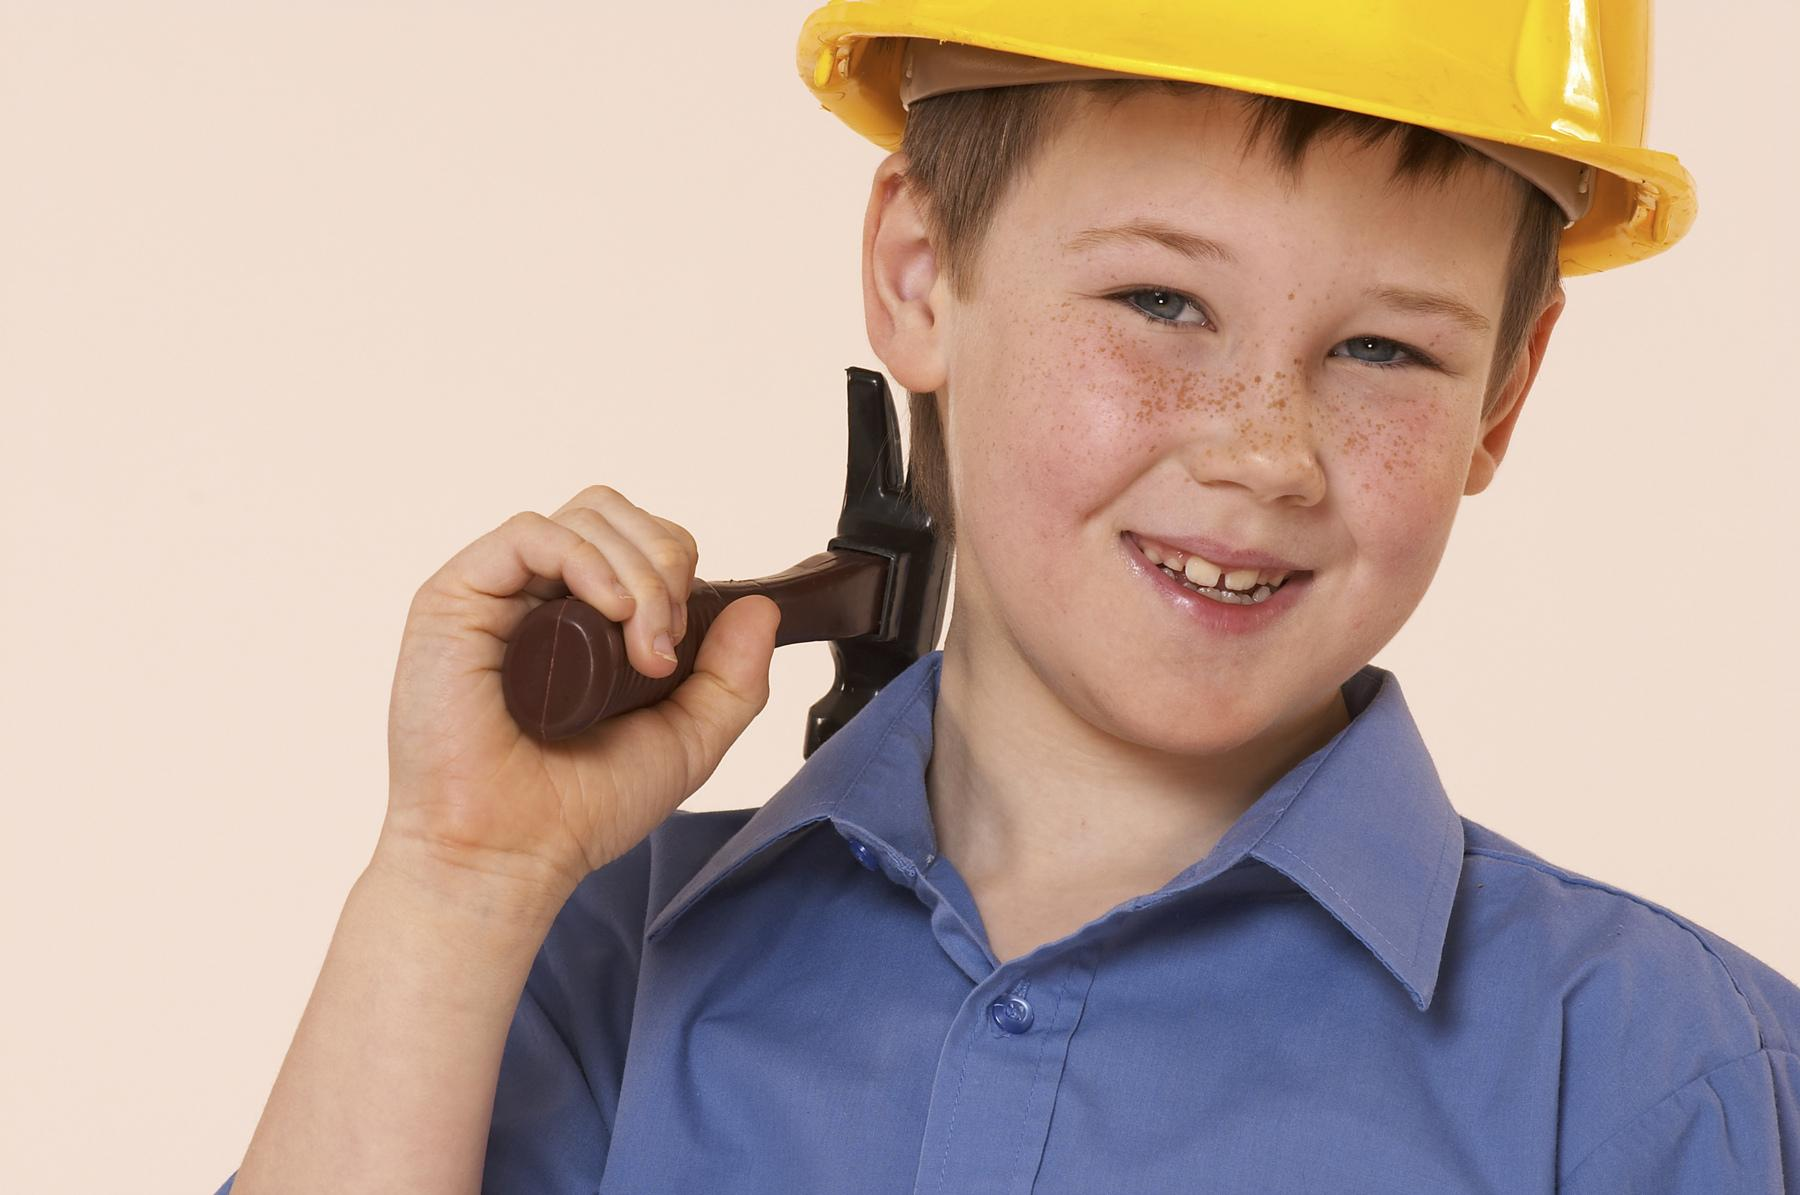hammer: (500, 357, 965, 770)
